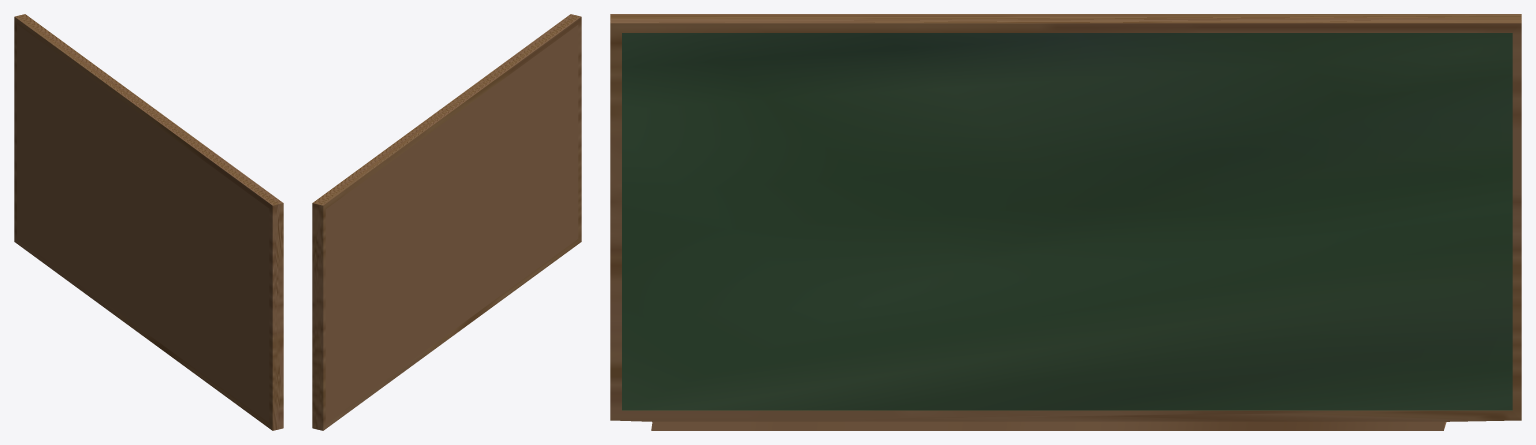
The model's file is school board.fbx.
3 views of the same model, side by side, from view 1: azimuth 30°, elevation 25°; view 2: azimuth 150°, elevation 25°; view 3: azimuth 270°, elevation 25° (orthographic). The views are drawn at different scales.
Parts seen in each view (by area): view 1: Cube.001; view 2: Cube.001; view 3: Cube, Cube.001, Cube.002.
Boxes of the visible parts, bbox=[...] form: Cube.001: bbox=[14, 14, 283, 430]; Cube.001: bbox=[312, 14, 581, 430]; Cube: bbox=[622, 33, 1512, 410]; Cube.001: bbox=[610, 14, 1521, 421]; Cube.002: bbox=[651, 421, 1446, 430].
Size of the model in its own units: 88.78 by 888 by 1839.
2 materials, 2 textured.
